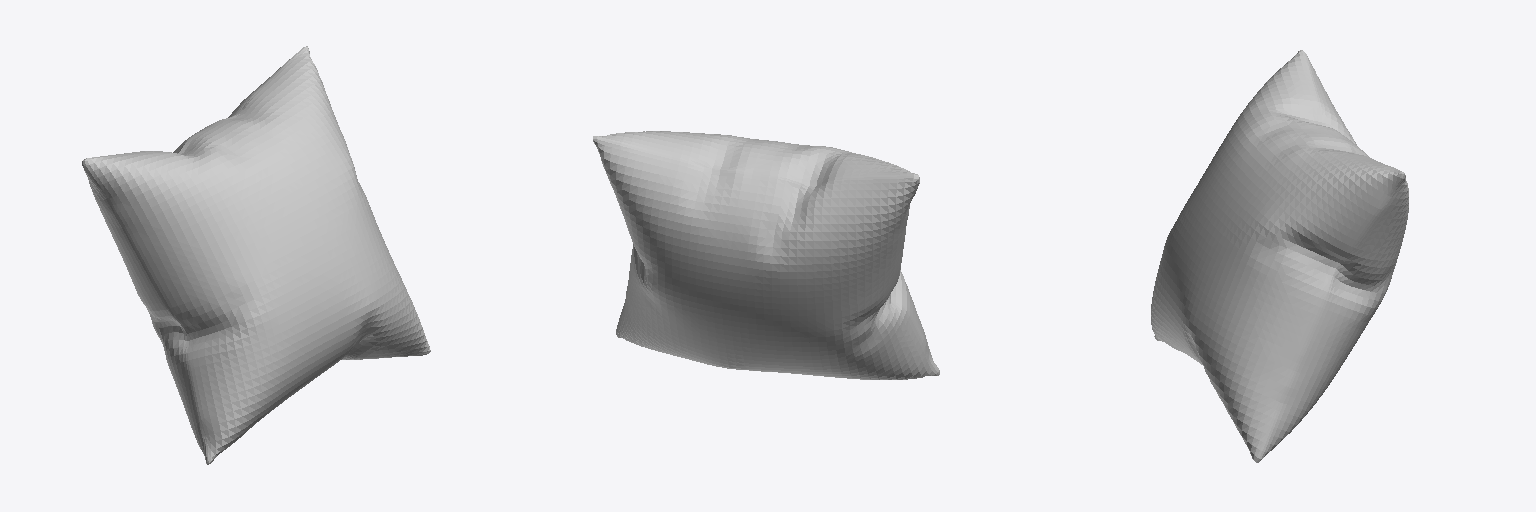
The model's file is pillow3.obj.
3 renders of one model, left to right at view 1: azimuth 30°, elevation 25°; view 2: azimuth 150°, elevation 25°; view 3: azimuth 270°, elevation 25°, orthographic.
Parts seen in each view (by area): view 1: Plane.002; view 2: Plane.002; view 3: Plane.002.
Boxes of the visible parts, x1,y1,x2,y2 form: Plane.002: [82, 46, 430, 464]; Plane.002: [593, 131, 939, 379]; Plane.002: [1151, 50, 1408, 462].
Size of the model in its own units: 0.3917 by 0.3164 by 0.2702.